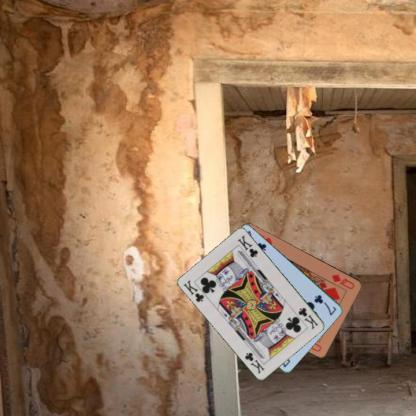7c: (312, 292, 338, 316)
Kc: (181, 278, 206, 304), (296, 305, 319, 331)
Qd: (329, 272, 356, 290)
